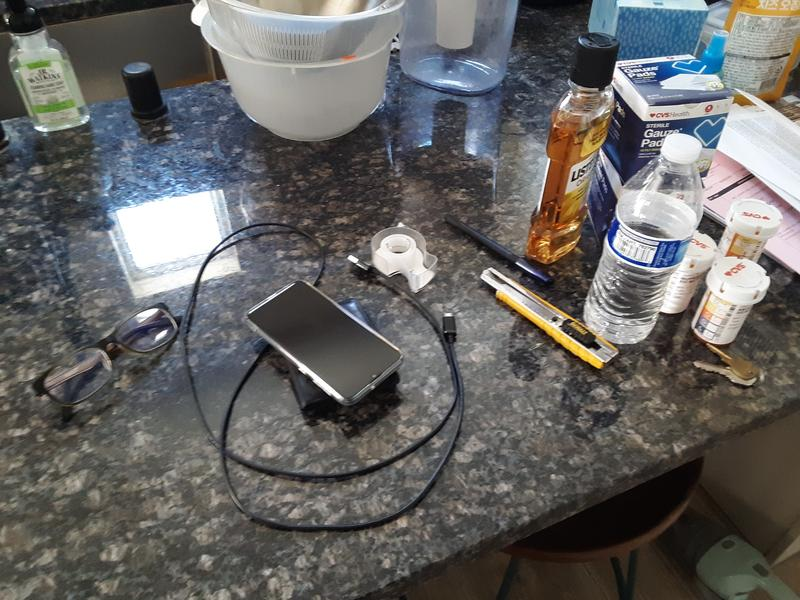glasses: (30, 302, 184, 418)
